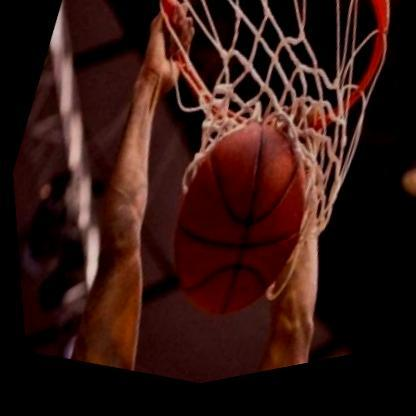basketball: (126, 93, 345, 365)
